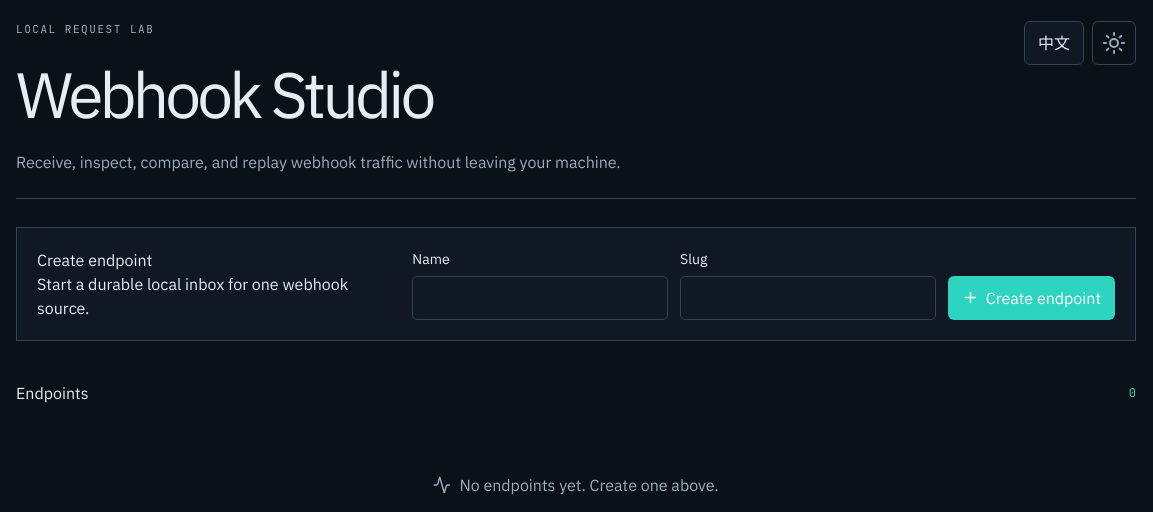
Scenario: critical flows › switches language without losing unsaved form state and persists it
The width and height of the screenshot is (1153, 512).
In the field labelled "Name": (540, 298) [412,276,668,320], type "Draft"
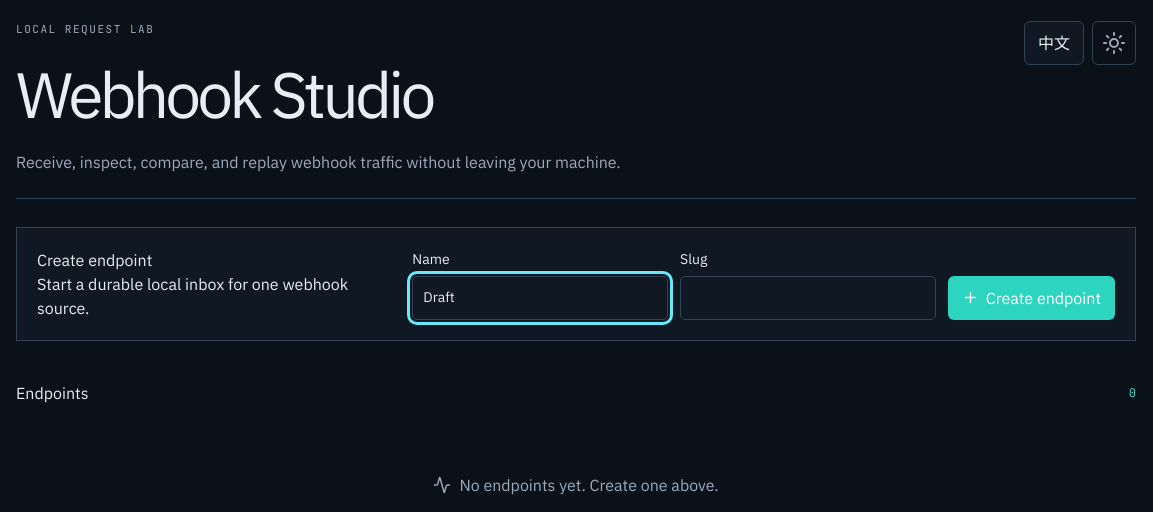
Click the button with aria-label "Switch language": (1054, 43) [1024,21,1084,65]
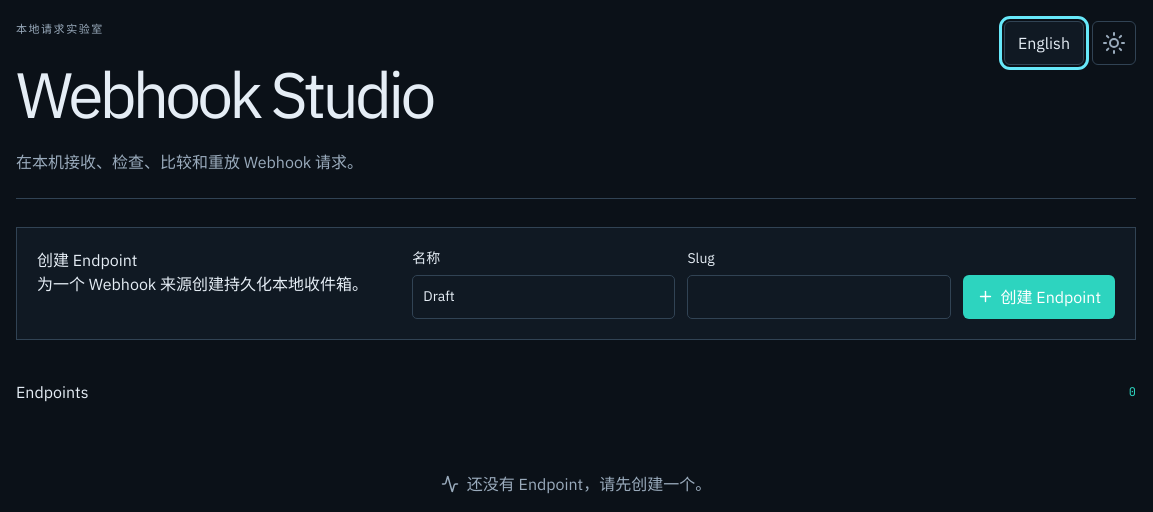
Expected: the button with aria-label "切换语言" is shown, [1004,21,1084,65]
